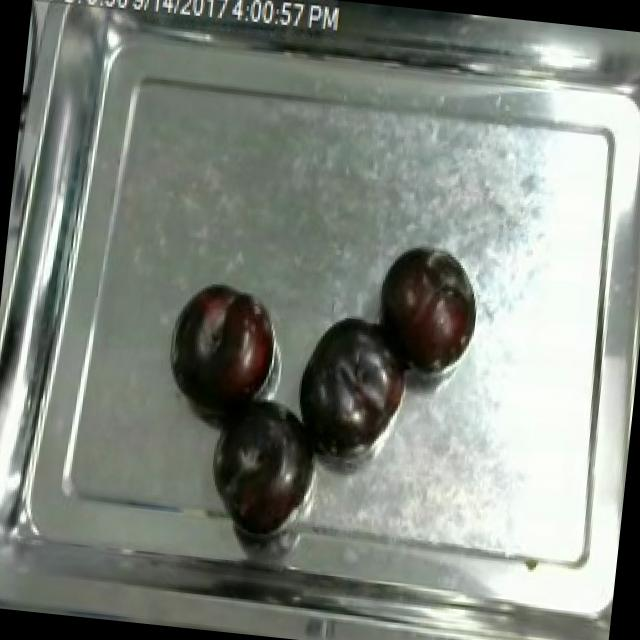Fruit: (286, 306, 412, 468), (162, 272, 284, 425), (208, 392, 328, 544), (365, 239, 484, 381)
